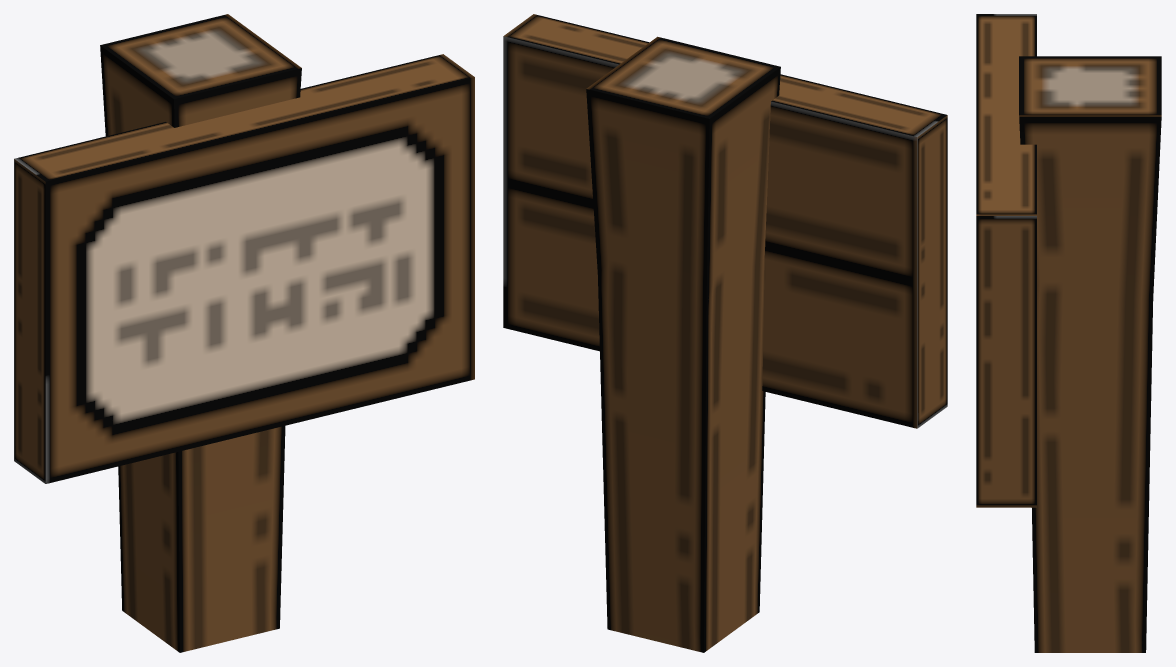
File: deco_sign.FBX
3 views of the same model, side by side, from view 1: azimuth 30°, elevation 25°; view 2: azimuth 150°, elevation 25°; view 3: azimuth 270°, elevation 25° (orthographic). The views are drawn at different scales.
Parts seen in each view (by area): view 1: deco_sign; view 2: deco_sign; view 3: deco_sign.
Part boxes in pixels (bbox=[...]): deco_sign: bbox=[14, 14, 474, 652]; deco_sign: bbox=[503, 14, 947, 652]; deco_sign: bbox=[976, 14, 1161, 652].
Bounding box in the file's own units: 2.07 × 2.59 × 0.8023.
Materials: 1 (1 with a texture image).
